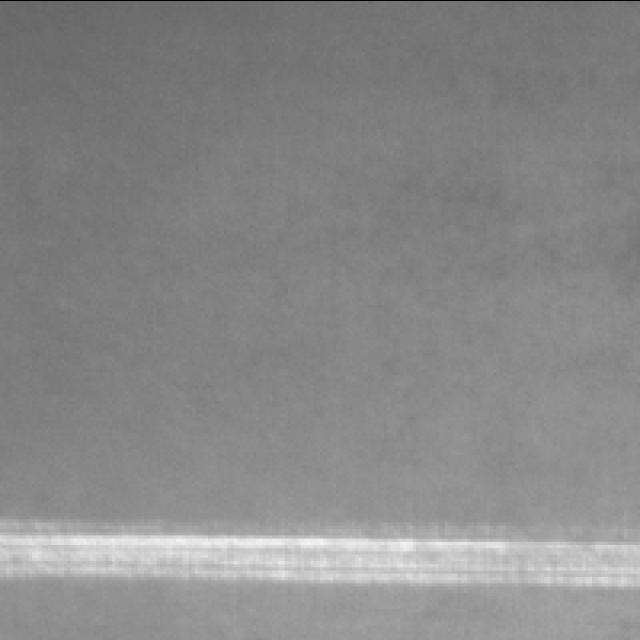scratches: (0, 535, 640, 585)
